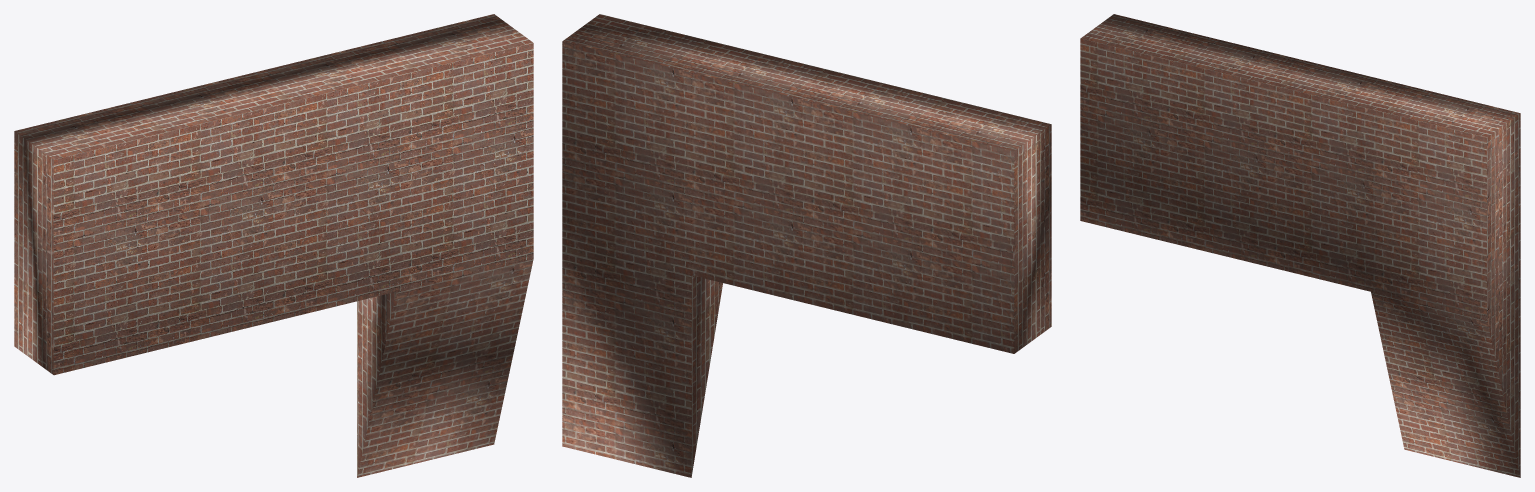
The model's file is ramp2.DAE.
3 renders of one model, left to right at view 1: azimuth 30°, elevation 25°; view 2: azimuth 150°, elevation 25°; view 3: azimuth 330°, elevation 25°, orthographic. The views are drawn at different scales.
Parts seen in each view (by area): view 1: adventureplaygound01a; view 2: adventureplaygound01a; view 3: adventureplaygound01a.
Boxes of the visible parts, <box> form: adventureplaygound01a: <box>14,14,533,477</box>; adventureplaygound01a: <box>562,14,1051,477</box>; adventureplaygound01a: <box>1080,14,1520,477</box>.
Size of the model in its own units: 276 by 236 by 39.37.
